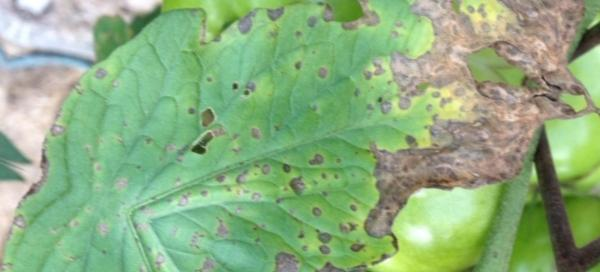Tomato Septoria leaf spot: (23, 0, 599, 272)
